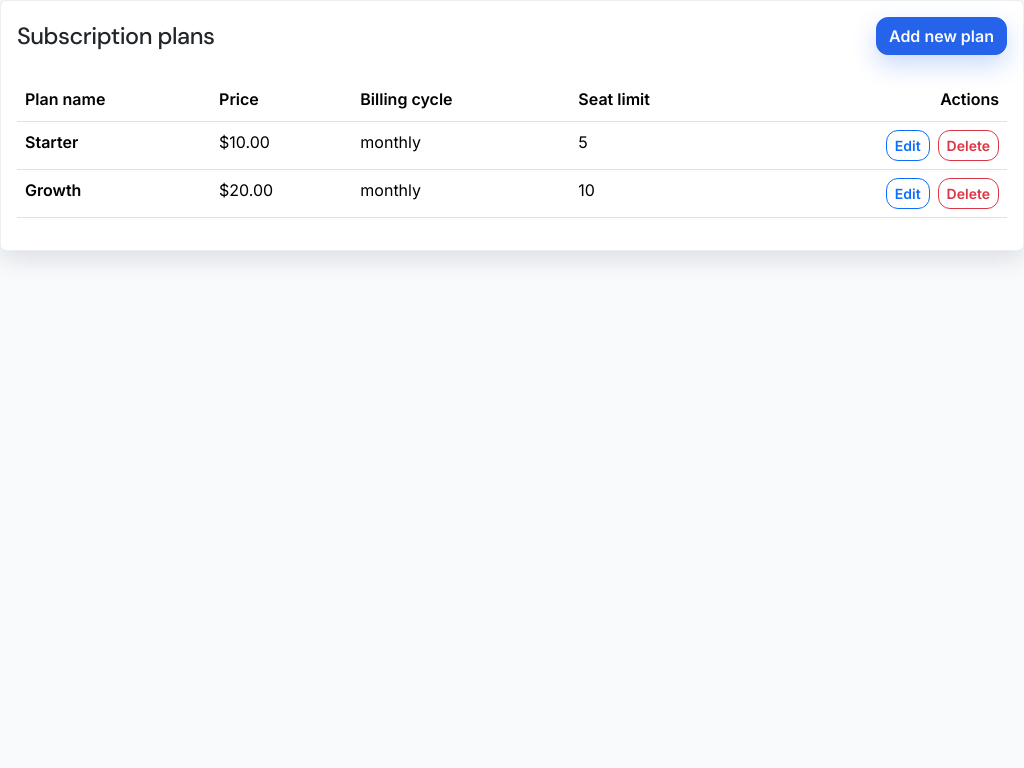
Test case: AdminPlansPage › opens the modal to edit a plan
Step 1. Click the button "Edit" in the row of "Starter" → (908,145), box [886,130,930,161]
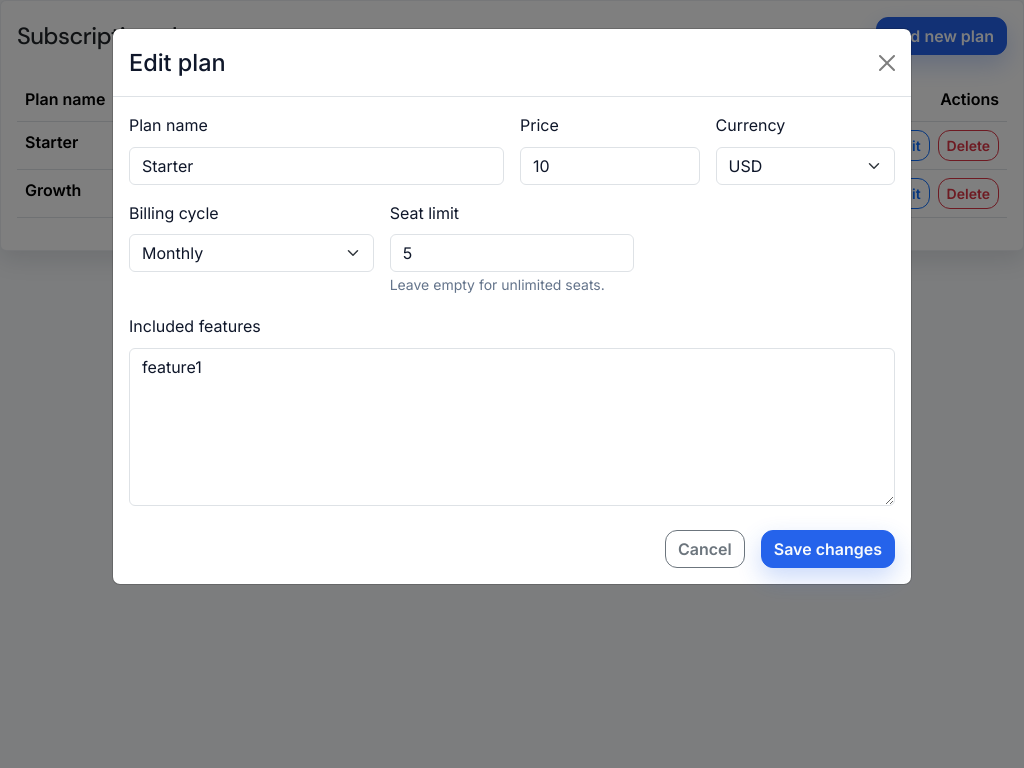
Now the text "Edit plan" is shown, box [129,45,226,80]
